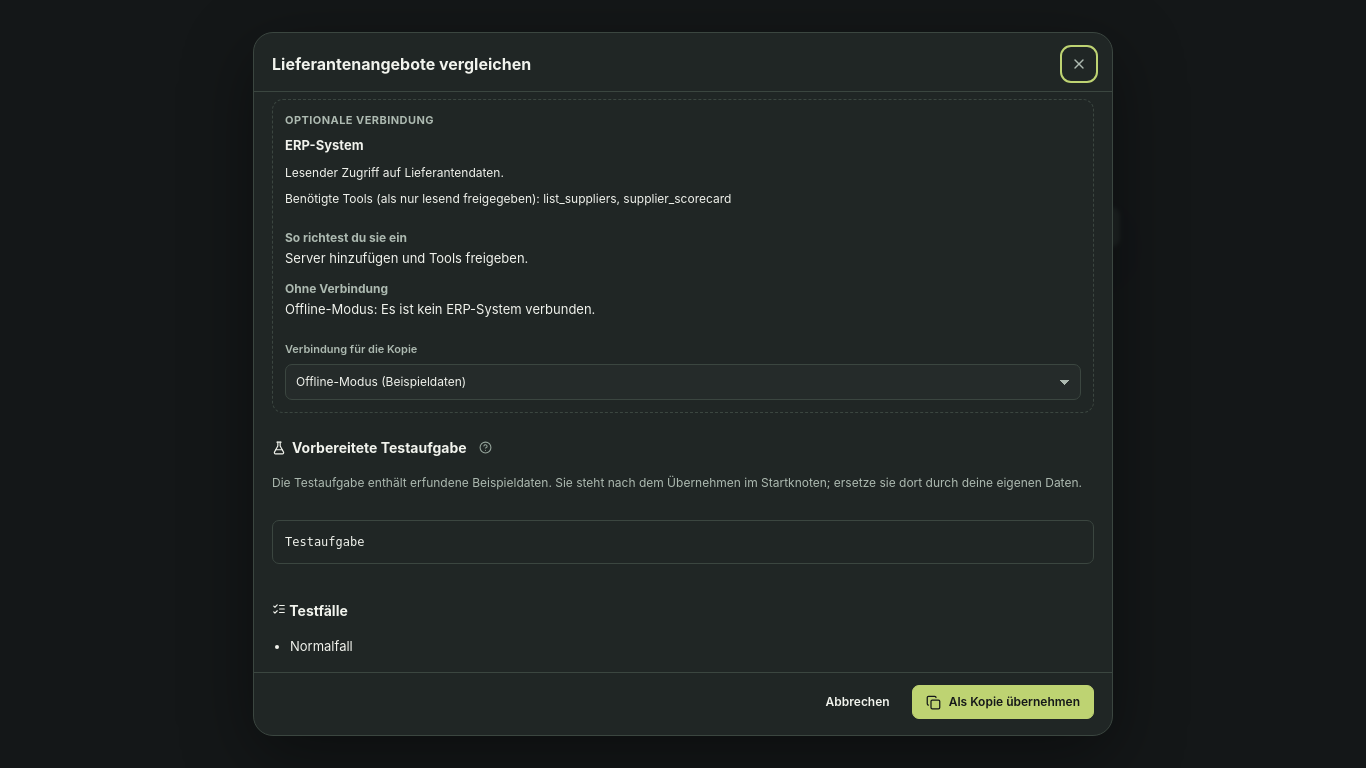
ExamplePreview › shows why the server cannot serve the connection
(page scrolled)
Select "MCP-Server: ERP" in the dropdown at x=683, y=382, box 285,364 -> 1081,400
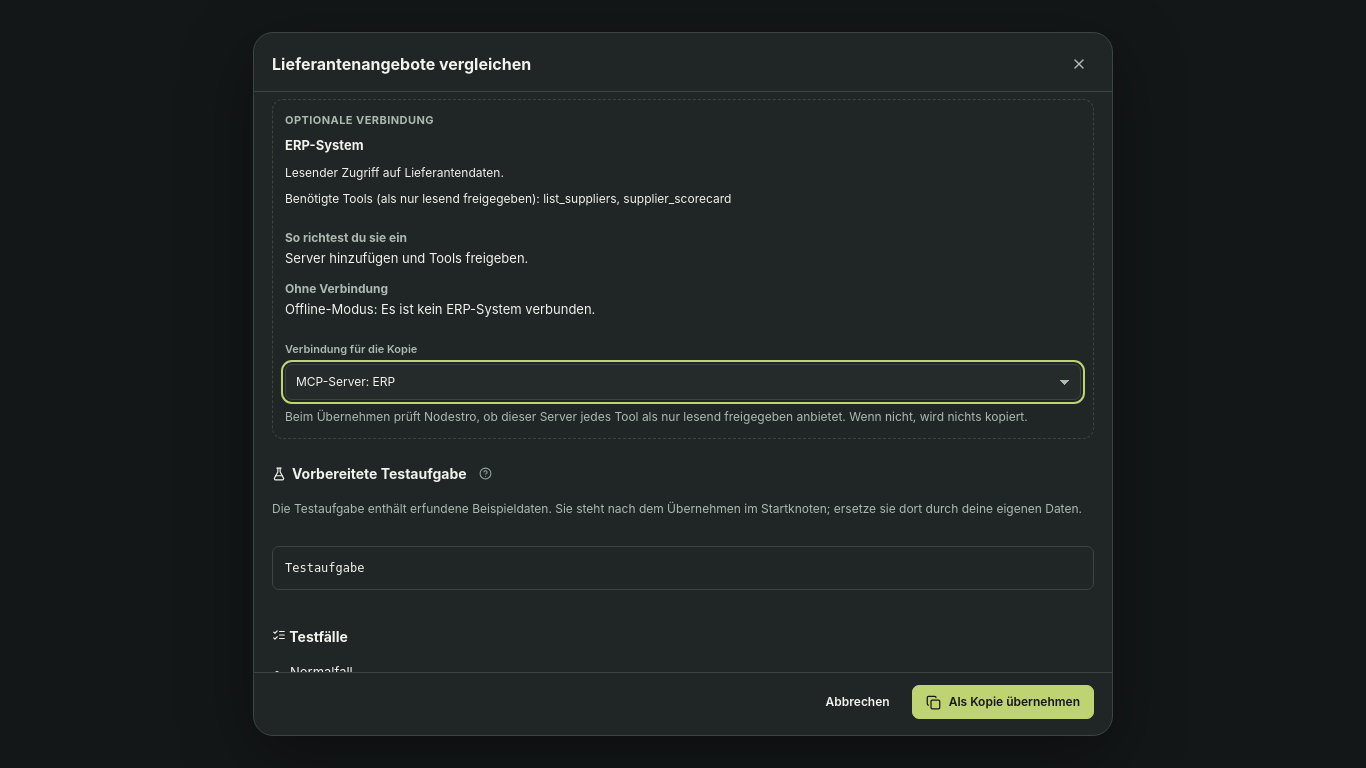
Click the button "Als Kopie übernehmen" at x=1003, y=702, box 912,685 -> 1094,719
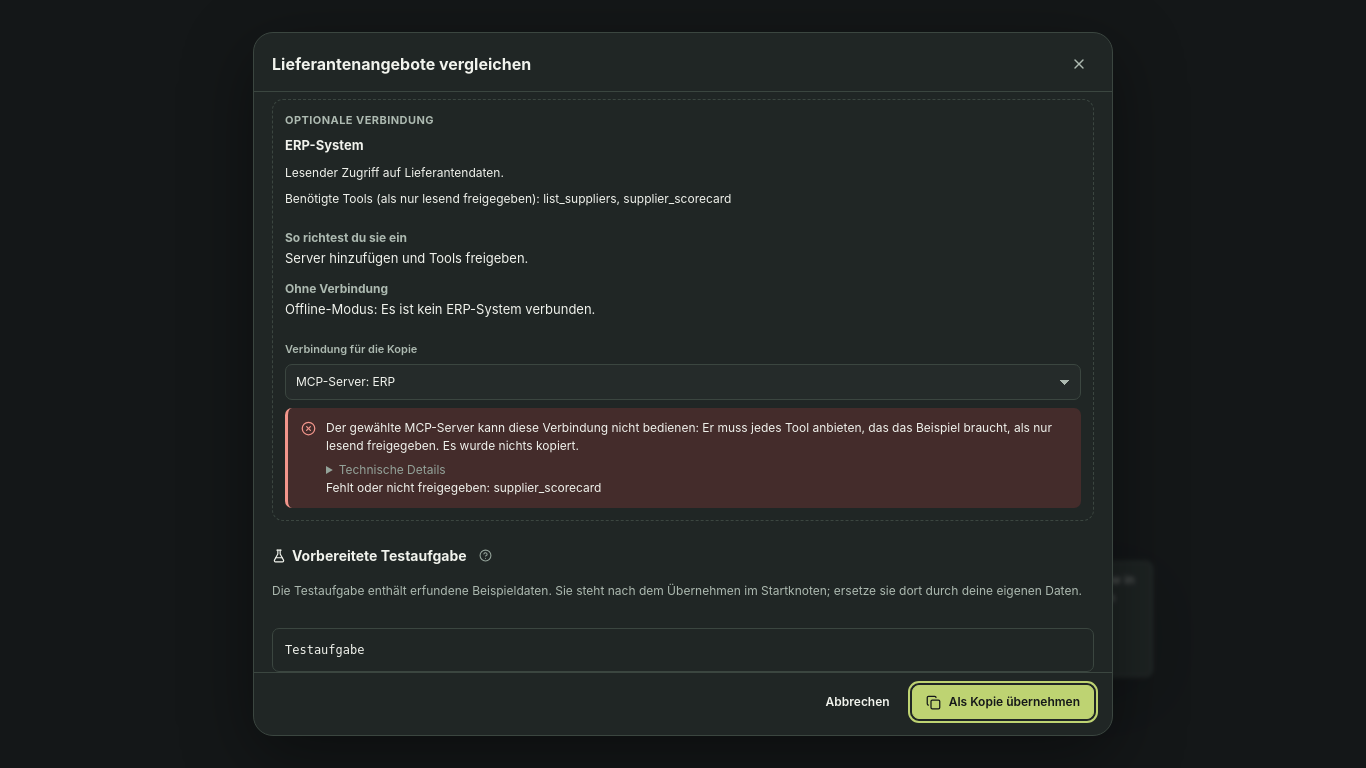
Expected: the message does not show "Nicht als nur lesend freigegeben", 285,408 -> 1081,508
Expected: the message shows "Der gewählte MCP-Server kann diese Verbindung nicht bedienen", 326,420 -> 1052,453
Expected: the message shows "Fehlt oder nicht freigegeben: supplier_scorecard", 326,480 -> 601,495
